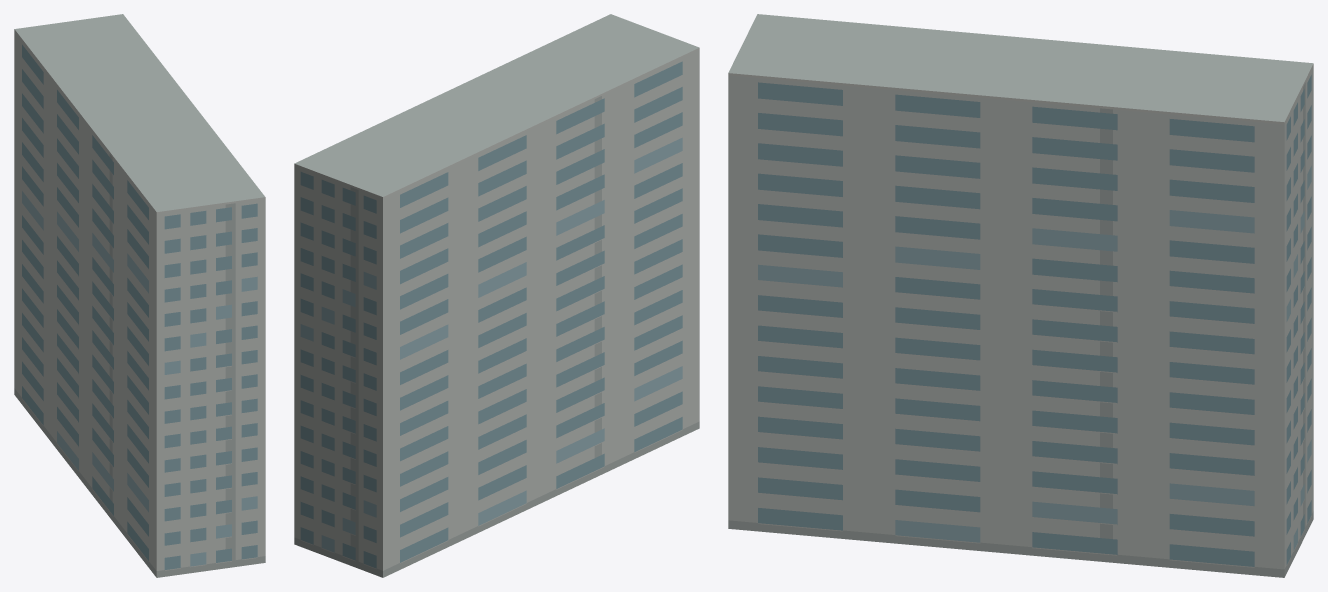
Rendered from residential-60cdc3dc-21b9-4d9b-9f02-71296d27e054.glb.
The picture shows the model from 3 angles, left to right: view 1: azimuth 30°, elevation 25°; view 2: azimuth 150°, elevation 25°; view 3: azimuth 270°, elevation 25°; orthographic projection. The views are drawn at different scales.
Parts seen in each view (by area): view 1: residential-60cdc3dc-21b9-4d9b-9f02-71296d27e054.tmp; view 2: residential-60cdc3dc-21b9-4d9b-9f02-71296d27e054.tmp; view 3: residential-60cdc3dc-21b9-4d9b-9f02-71296d27e054.tmp.
Boxes of the visible parts, left/top/right/bottom form: residential-60cdc3dc-21b9-4d9b-9f02-71296d27e054.tmp: left=14, top=14, right=265, bottom=577; residential-60cdc3dc-21b9-4d9b-9f02-71296d27e054.tmp: left=294, top=14, right=699, bottom=577; residential-60cdc3dc-21b9-4d9b-9f02-71296d27e054.tmp: left=728, top=14, right=1313, bottom=577.
Size of the model in its own units: 23.43 by 46 by 53.57.
